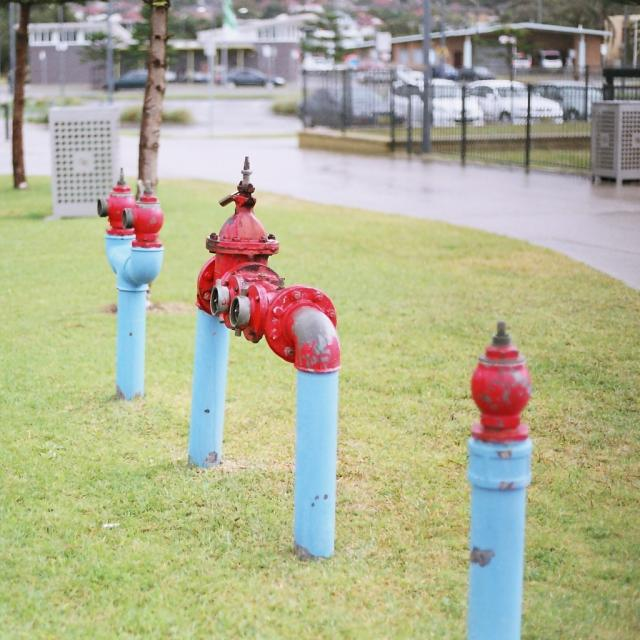fire_hydrant: (189, 155, 334, 560), (98, 165, 163, 396)
